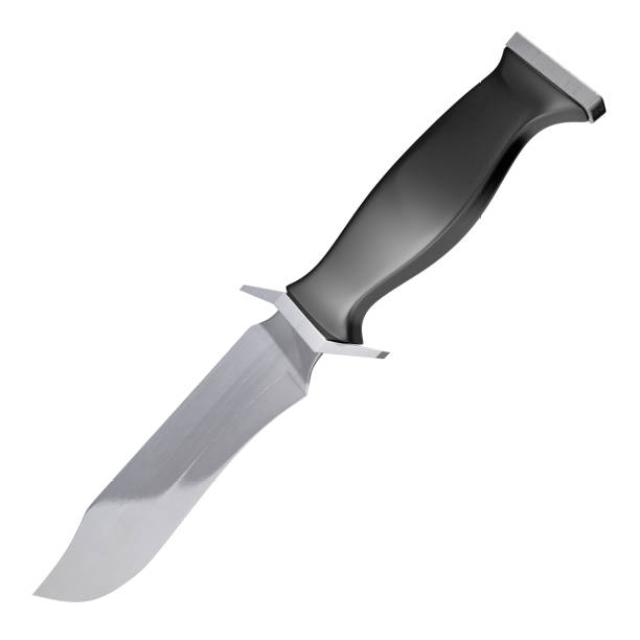knife: (31, 26, 617, 614)
